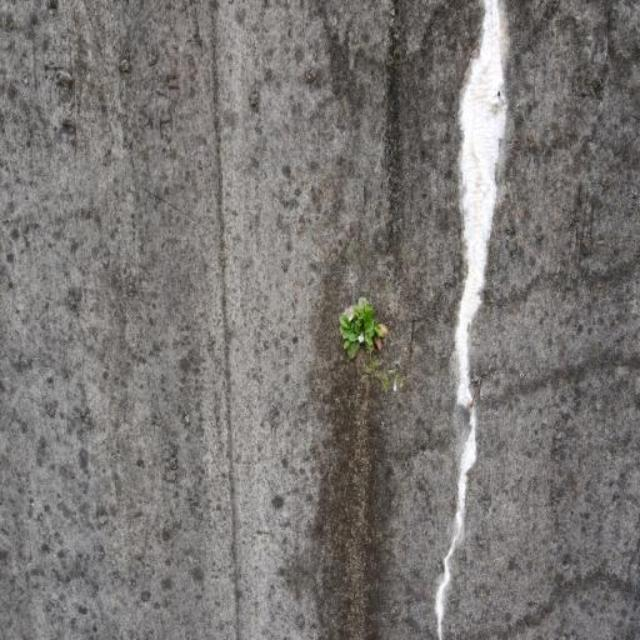D01: (438, 2, 509, 639)
